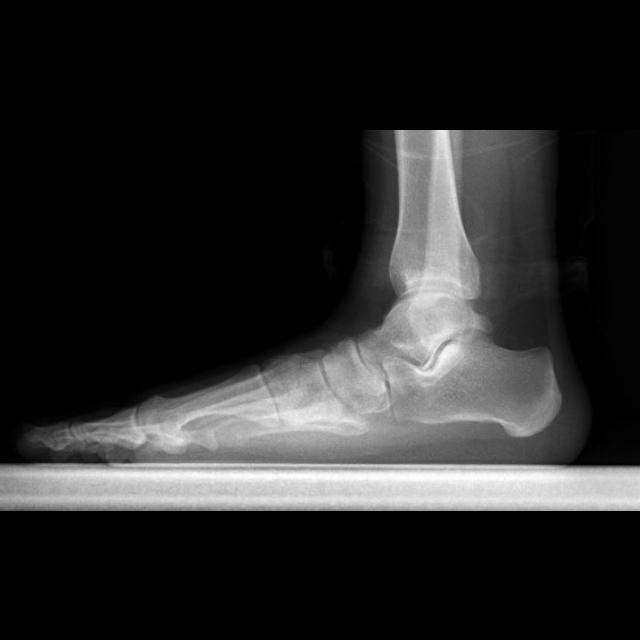a: (382, 335, 562, 439)
b: (320, 339, 386, 408)
c: (134, 366, 276, 435)
